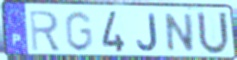4: (101, 10, 127, 55)
G: (63, 10, 94, 54)
J: (136, 12, 159, 53)
N: (164, 12, 195, 54)
R: (28, 9, 63, 53)
U: (195, 10, 232, 57)
